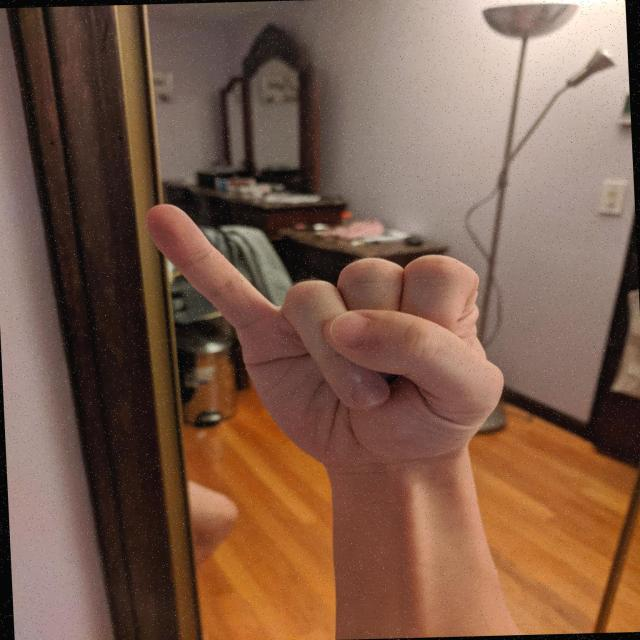I: (137, 188, 513, 482)
